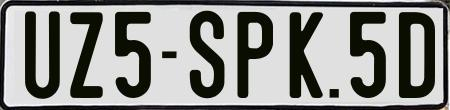5: (113, 11, 154, 103), (347, 10, 388, 101)
D: (396, 9, 432, 100)
K: (288, 9, 325, 96)
P: (237, 11, 278, 97)
S: (189, 10, 230, 100)
U: (25, 8, 63, 102)
Z: (68, 11, 105, 98)
